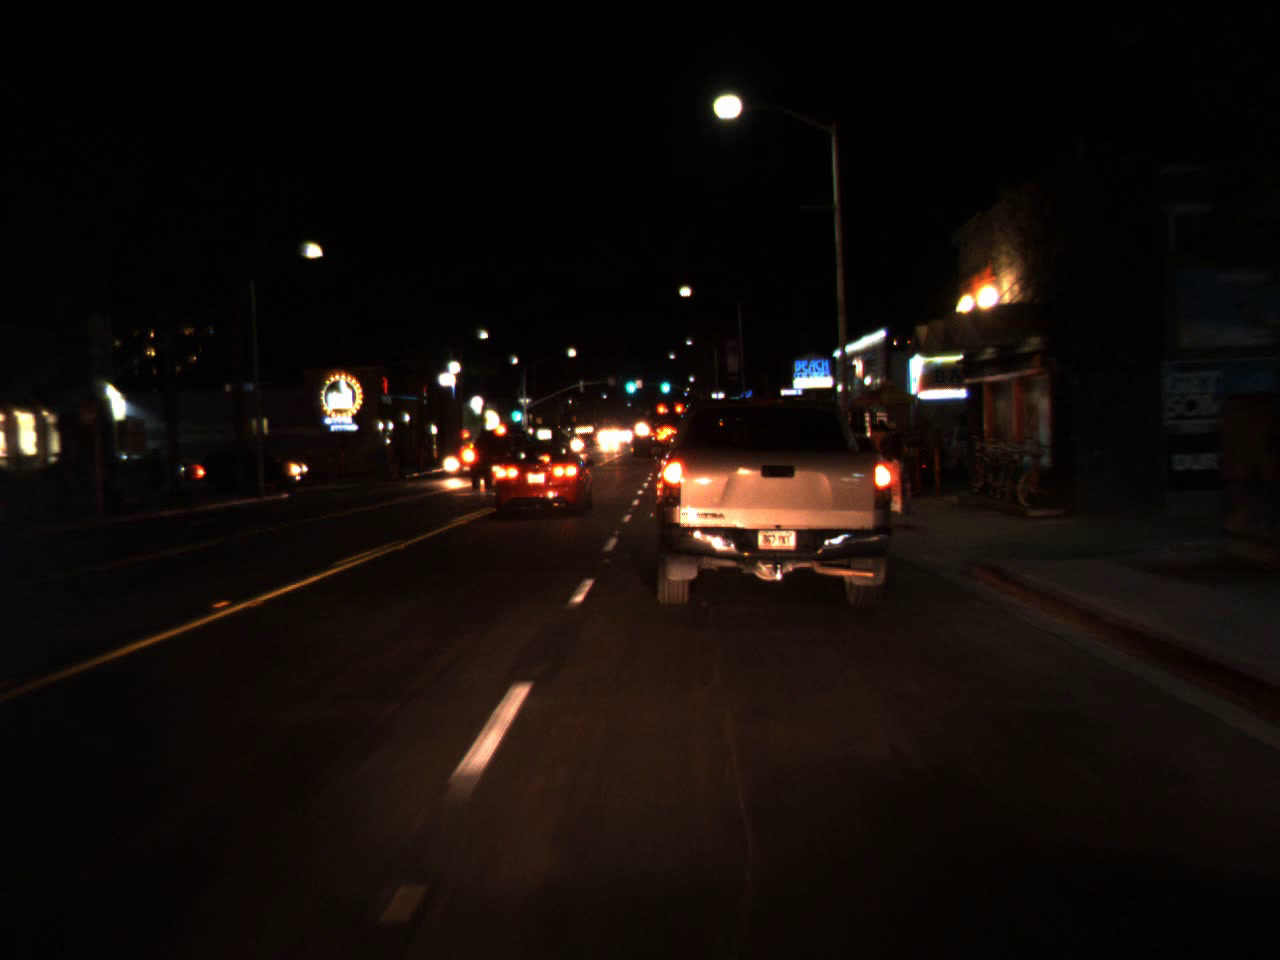go: (621, 367, 639, 397), (507, 398, 523, 425), (658, 368, 670, 398)
